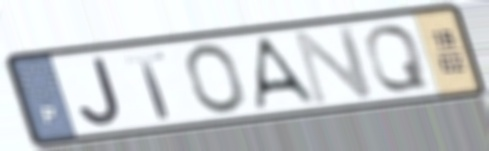A: (252, 34, 322, 113)
J: (75, 54, 126, 129)
N: (290, 22, 378, 108)
O: (183, 41, 248, 115)
Q: (361, 22, 433, 94)
T: (120, 48, 174, 121)
